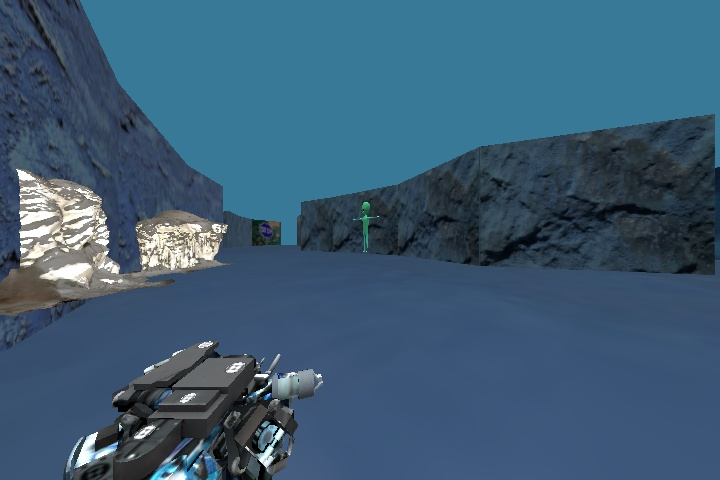formation: (14, 160, 115, 304), (145, 196, 235, 270)
green_alien: (349, 198, 386, 253)
